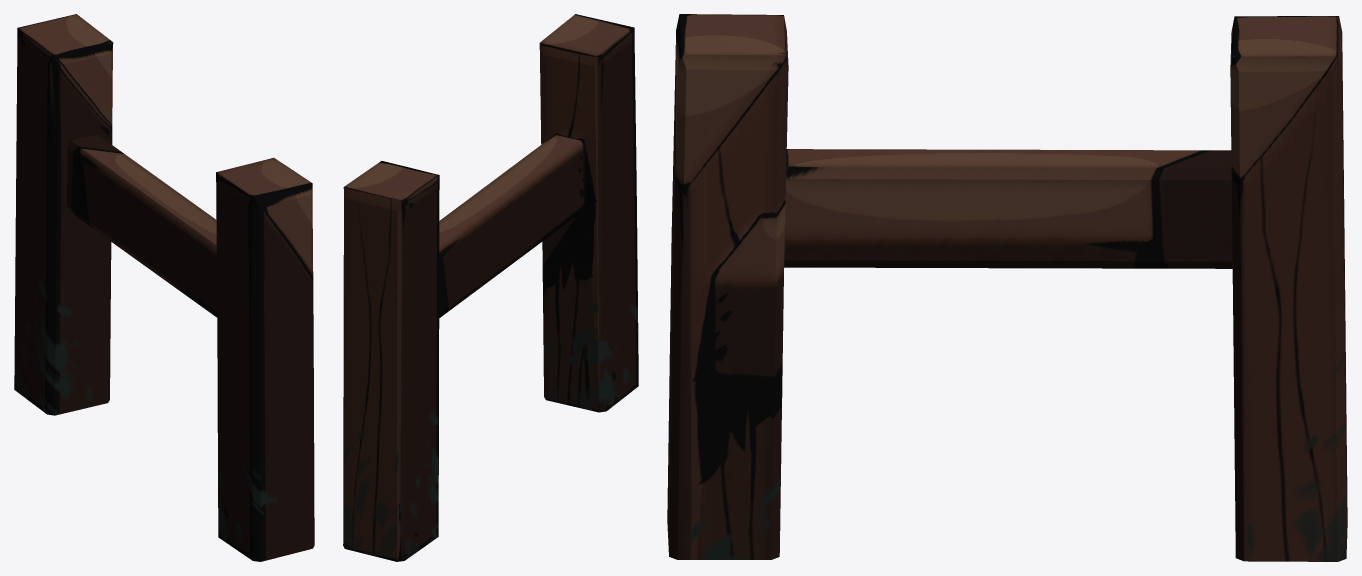
The model's file is fence.fbx.
The picture shows the model from 3 angles, left to right: view 1: azimuth 30°, elevation 25°; view 2: azimuth 150°, elevation 25°; view 3: azimuth 270°, elevation 25°; orthographic projection. The views are drawn at different scales.
Visible parts, largest first — view 1: Cube.013; view 2: Cube.013; view 3: Cube.013.
Part boxes in pixels (<box>): Cube.013: <box>14,14,314,561</box>; Cube.013: <box>343,14,638,561</box>; Cube.013: <box>667,14,1347,561</box>.
Size of the model in its own units: 51.99 by 275 by 334.
